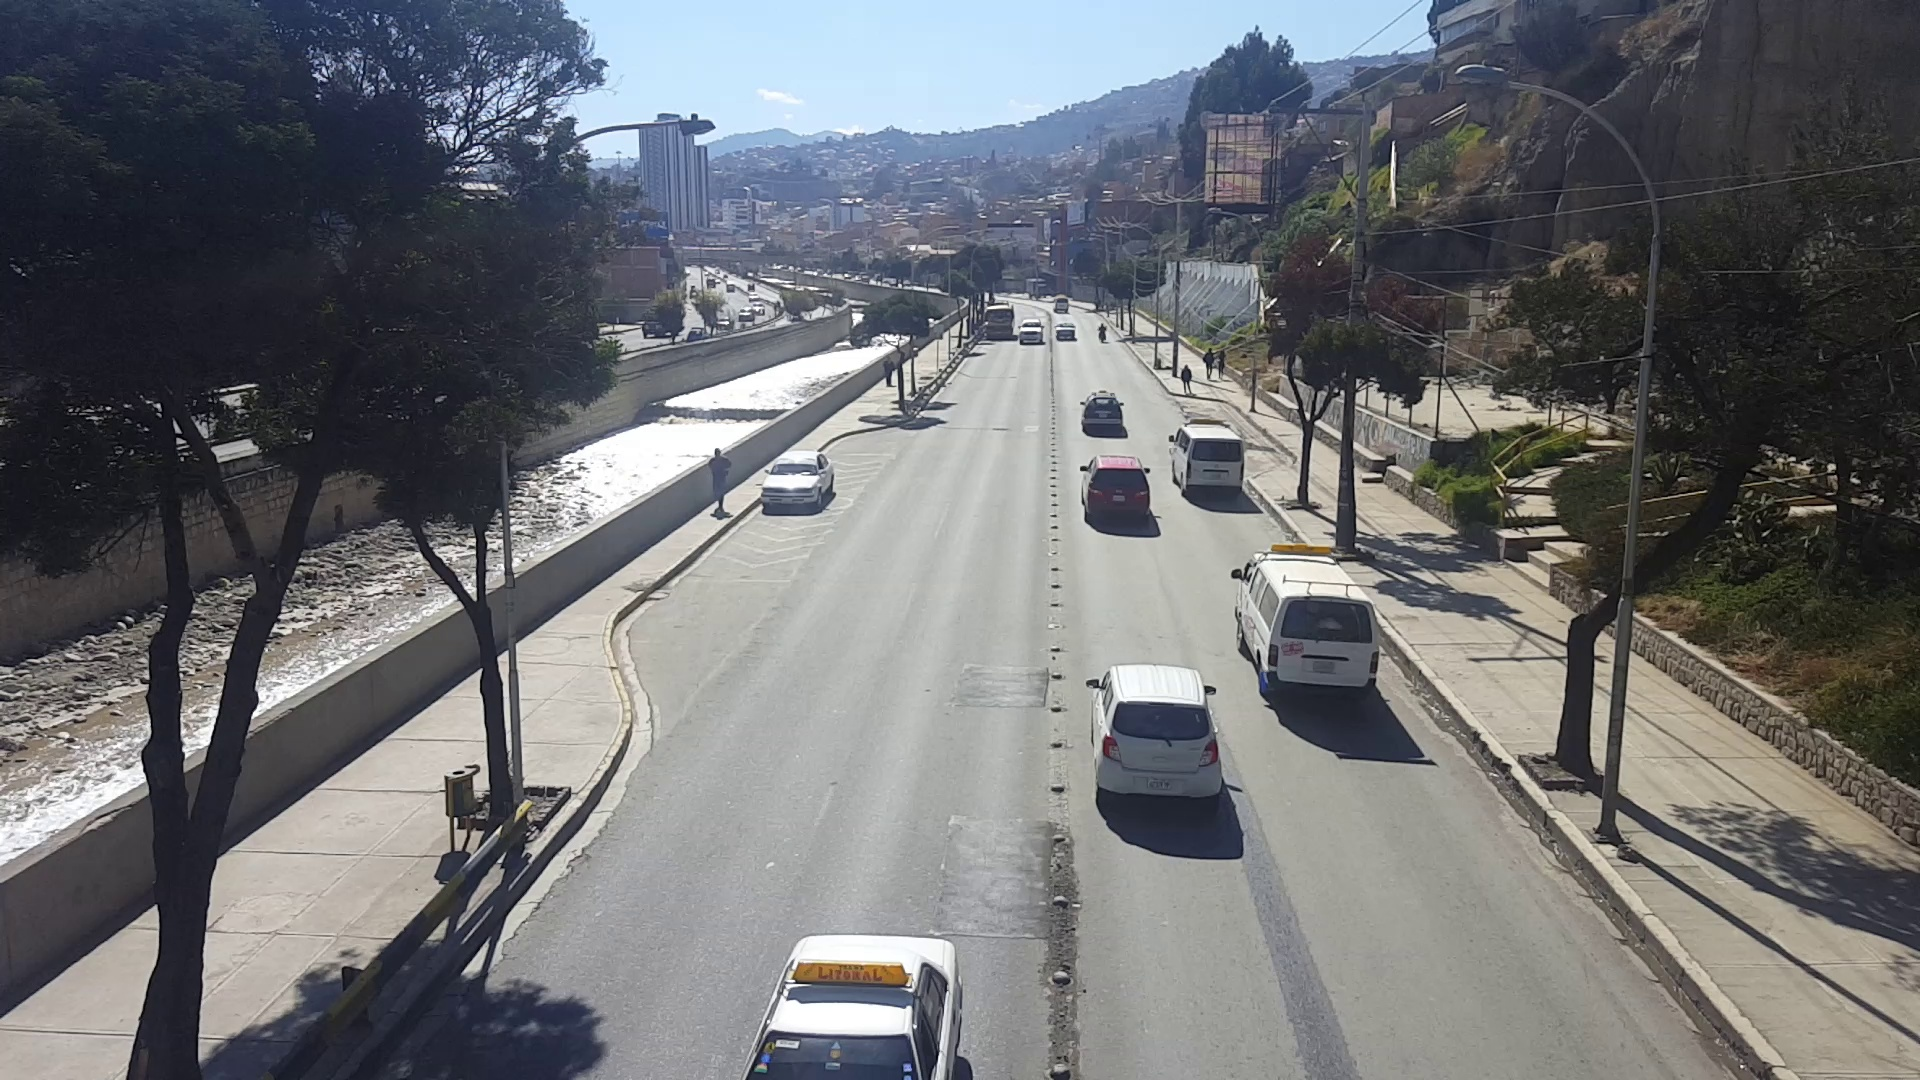automovil: (1087, 661, 1232, 804), (1079, 458, 1158, 521)
minibus: (1237, 545, 1385, 702), (1164, 419, 1249, 496)
taxitrufi: (736, 934, 963, 1080)
